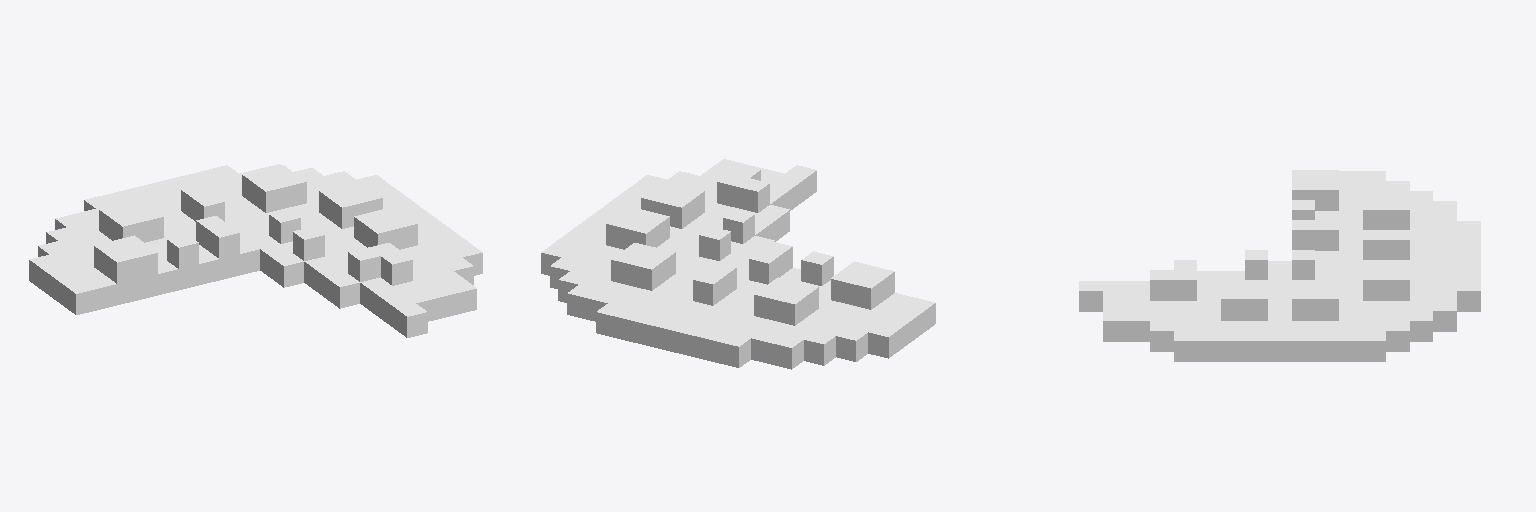
File: pizza1c.obj
The picture shows the model from 3 angles: view 1: azimuth 30°, elevation 25°; view 2: azimuth 150°, elevation 25°; view 3: azimuth 270°, elevation 25°; orthographic projection.
Bounding box in the file's own units: 0.85 × 0.1 × 0.85.